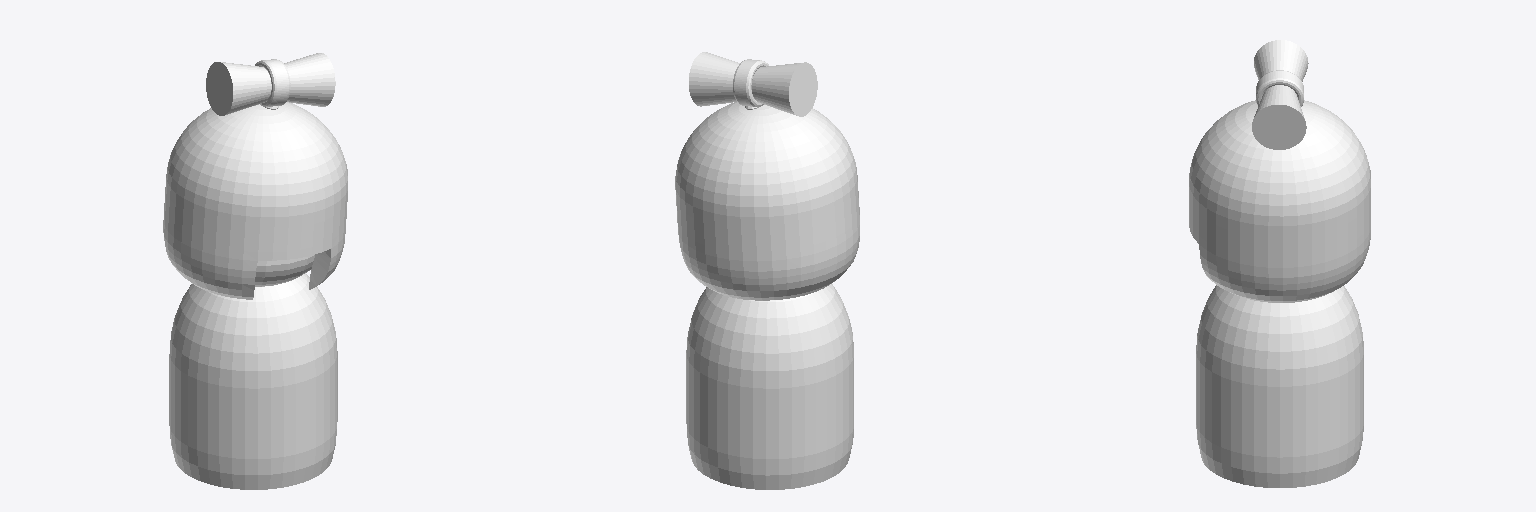
The model's file is doll.obj.
3 views of the same model, side by side, from view 1: azimuth 30°, elevation 25°; view 2: azimuth 150°, elevation 25°; view 3: azimuth 270°, elevation 25° (orthographic).
Visible parts, largest first — view 1: doll; view 2: doll; view 3: doll.
Part boxes in pixels (left/top/right/bottom): doll: left=163, top=53, right=347, bottom=489; doll: left=675, top=52, right=859, bottom=489; doll: left=1189, top=40, right=1370, bottom=487.
Bounding box in the file's own units: 0.9382 × 2.23 × 0.9223.